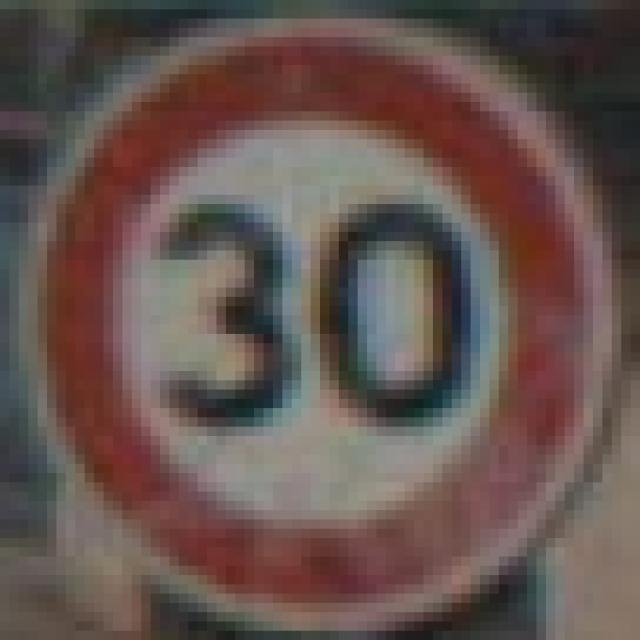speed_30: (0, 0, 631, 631)
